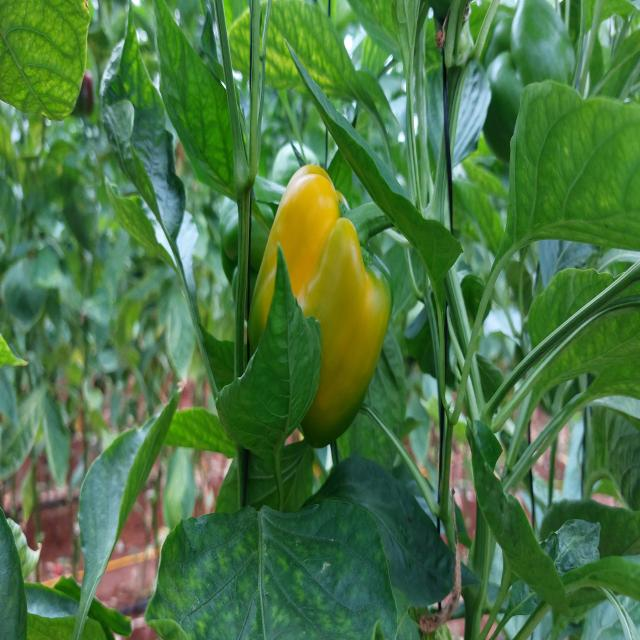GreenishYellow--Can-be-Harvested: (253, 172, 400, 489)
